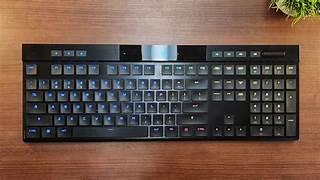keyboard: (21, 43, 299, 142)
